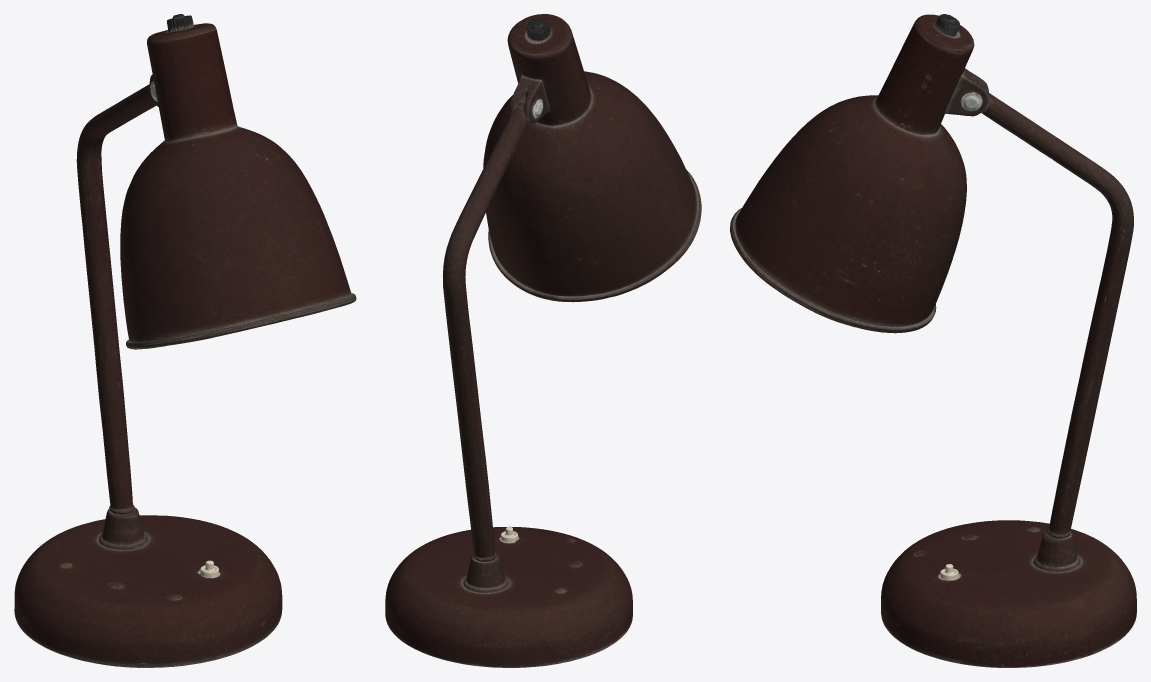
File: lampada.glb
The picture shows the model from 3 angles, left to right: view 1: azimuth 30°, elevation 25°; view 2: azimuth 150°, elevation 25°; view 3: azimuth 270°, elevation 25°; orthographic projection. The views are drawn at different scales.
Parts seen in each view (by area): view 1: Mesh_0; view 2: Mesh_0; view 3: Mesh_0.
Part boxes in pixels (x1=…): Mesh_0: x1=14, y1=14, x2=356, y2=667; Mesh_0: x1=385, y1=14, x2=701, y2=667; Mesh_0: x1=730, y1=14, x2=1136, y2=667.
Size of the model in its own units: 0.746 by 1.9 by 1.17.
1 material, 1 textured.
